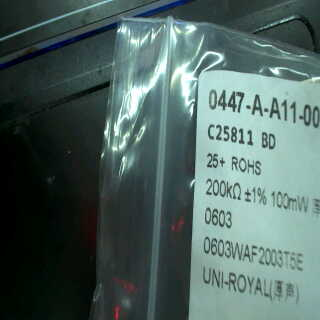200kR: (201, 176, 242, 200)
